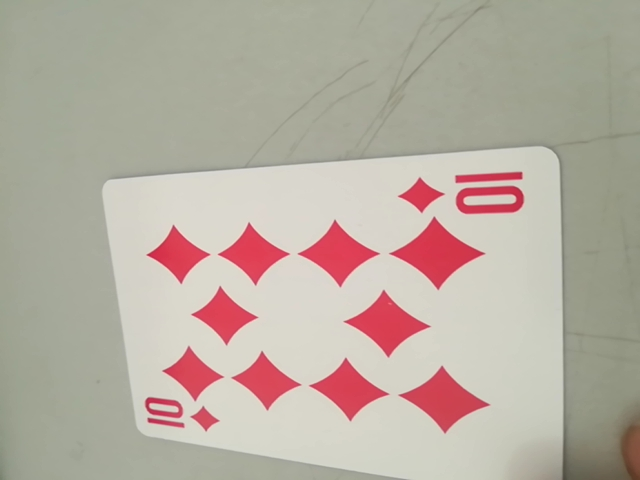fk 10: (402, 165, 535, 224), (138, 392, 226, 440)
